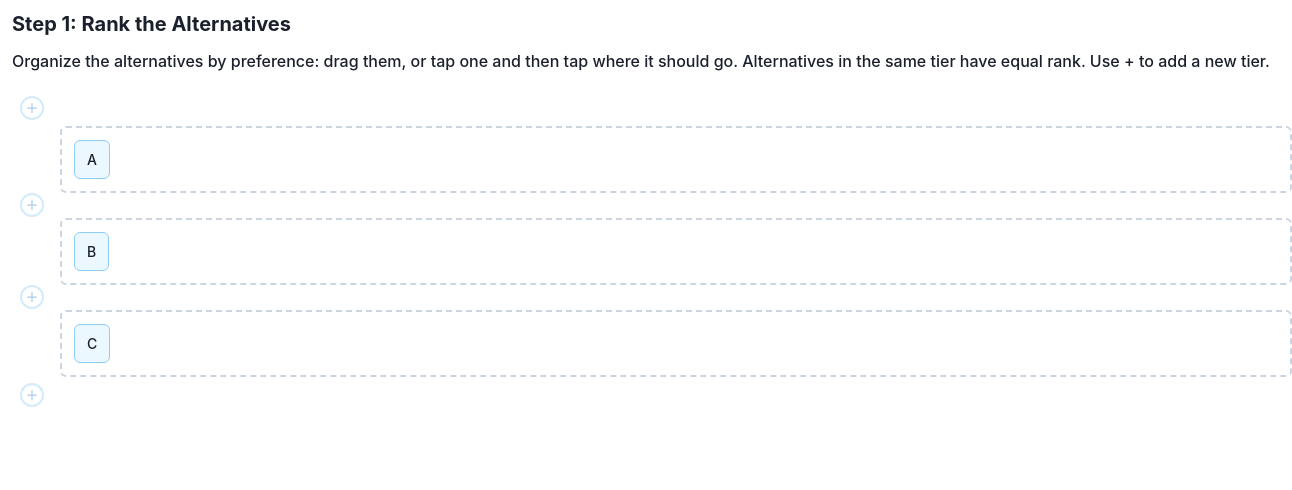
Scenario: TierlistPhase – tap to place › moves a tapped alternative into the tapped tier
What coordinates should you click on to do the following:
click the button "C"
I would click on:
 (92, 344)
Its box is [74, 324, 110, 363].
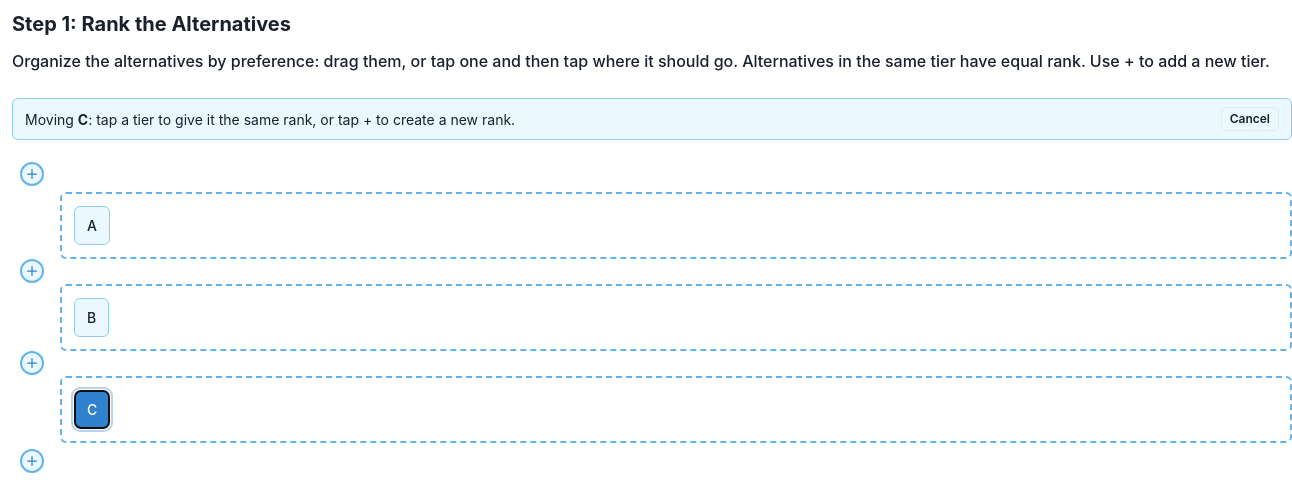
Now the message shows "Moving C", box [12, 98, 1291, 140]
What coordinates should you click on to do the following:
click the element named "Rank 1"
I would click on:
 (676, 226)
Its box is [60, 192, 1291, 259].
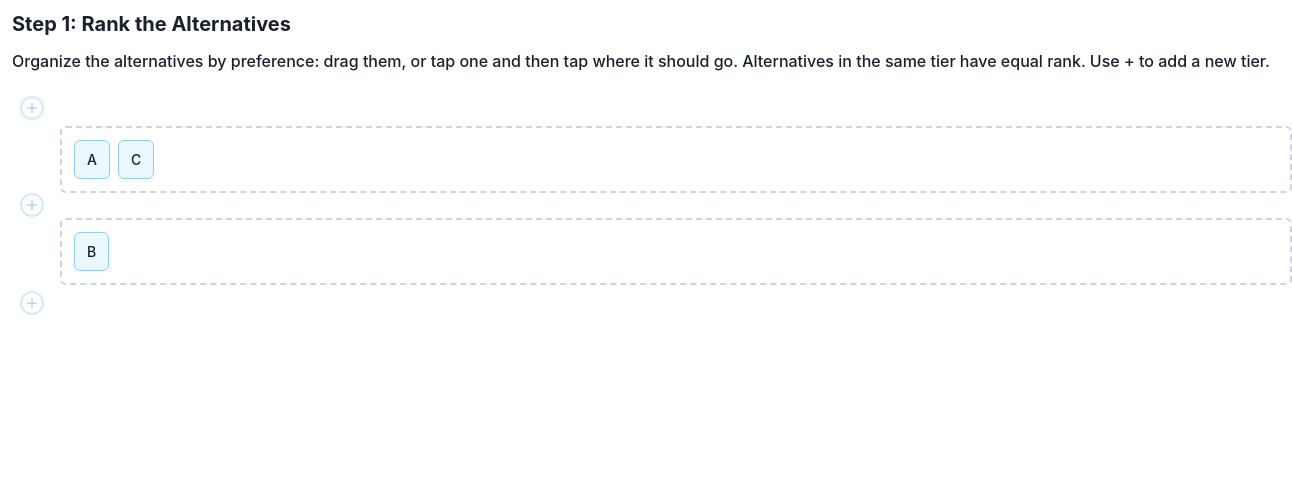
Expected: the button "C" is shown, [118, 140, 154, 179]
Now the message is gone
